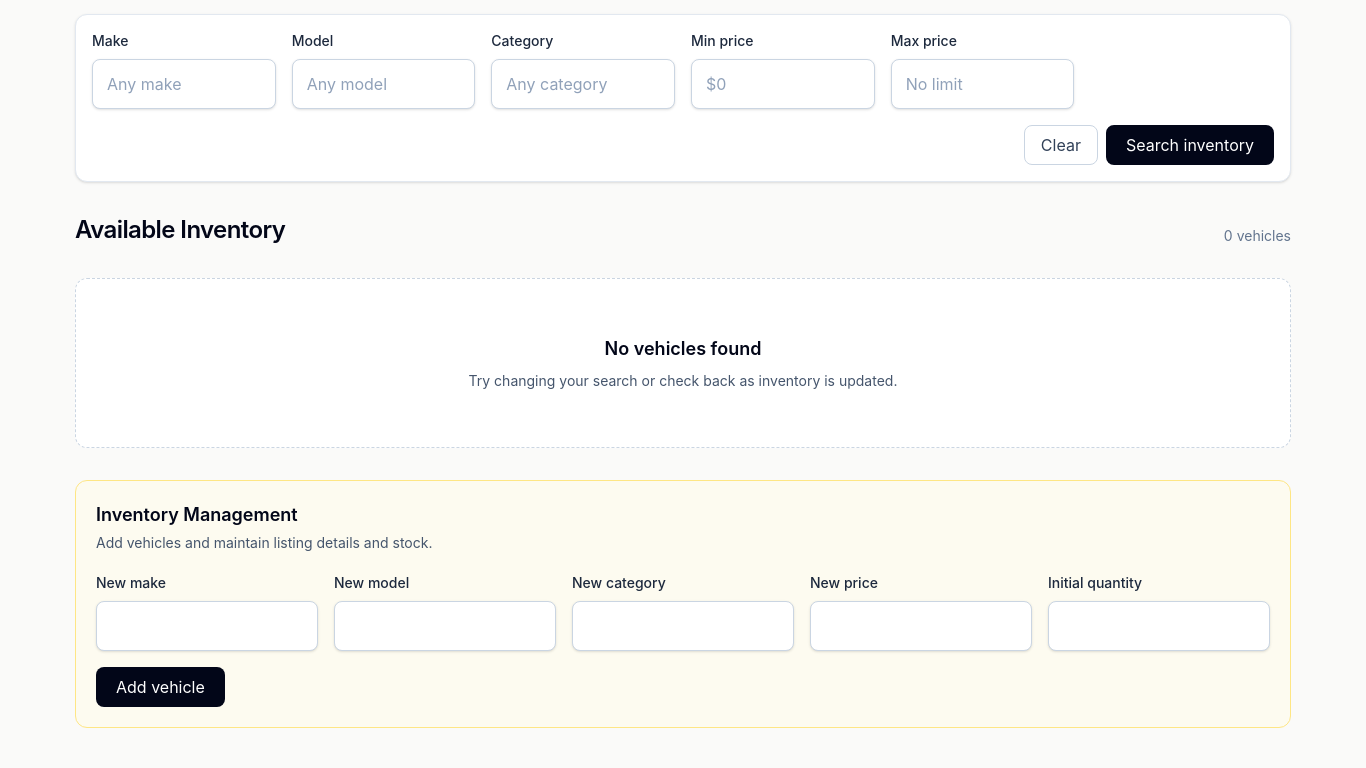
Scenario: dashboard › shows an API error in a modal when adding a vehicle fails
(page scrolled)
Type "Honda" into the field labelled "New make". click: (207, 626)
box: [96,601,318,651]
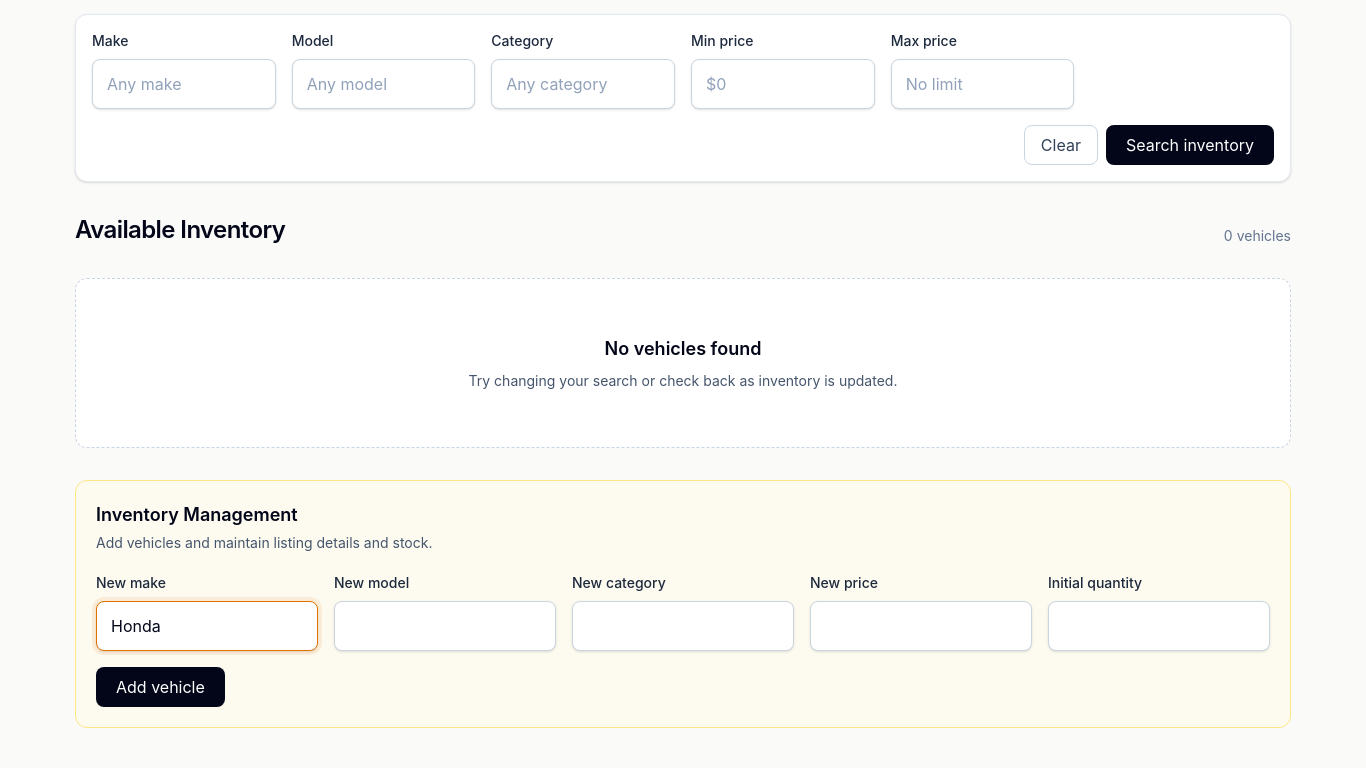
Type "Civic" into the field labelled "New model". click: (445, 626)
box: [334,601,556,651]
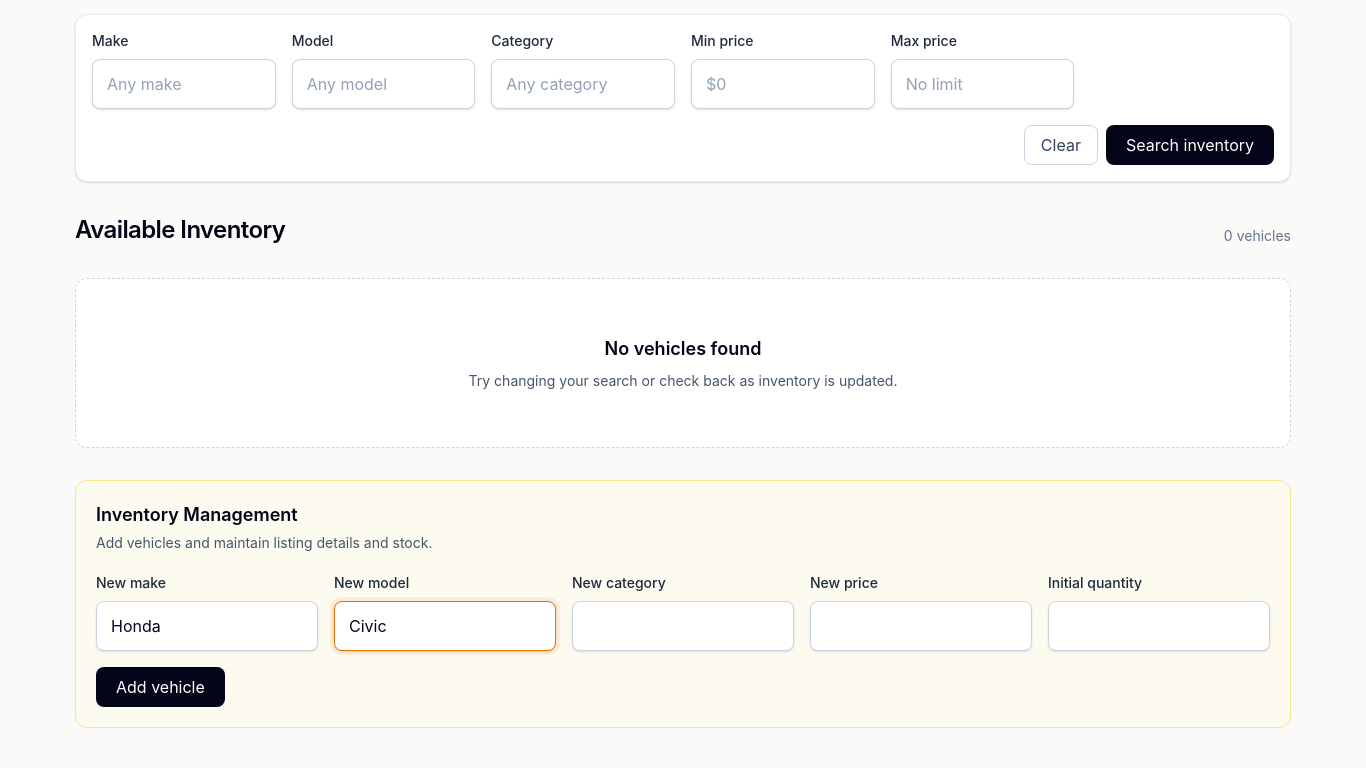
Type "Sedan" into the field labelled "New category". click: (683, 626)
box: [572,601,794,651]
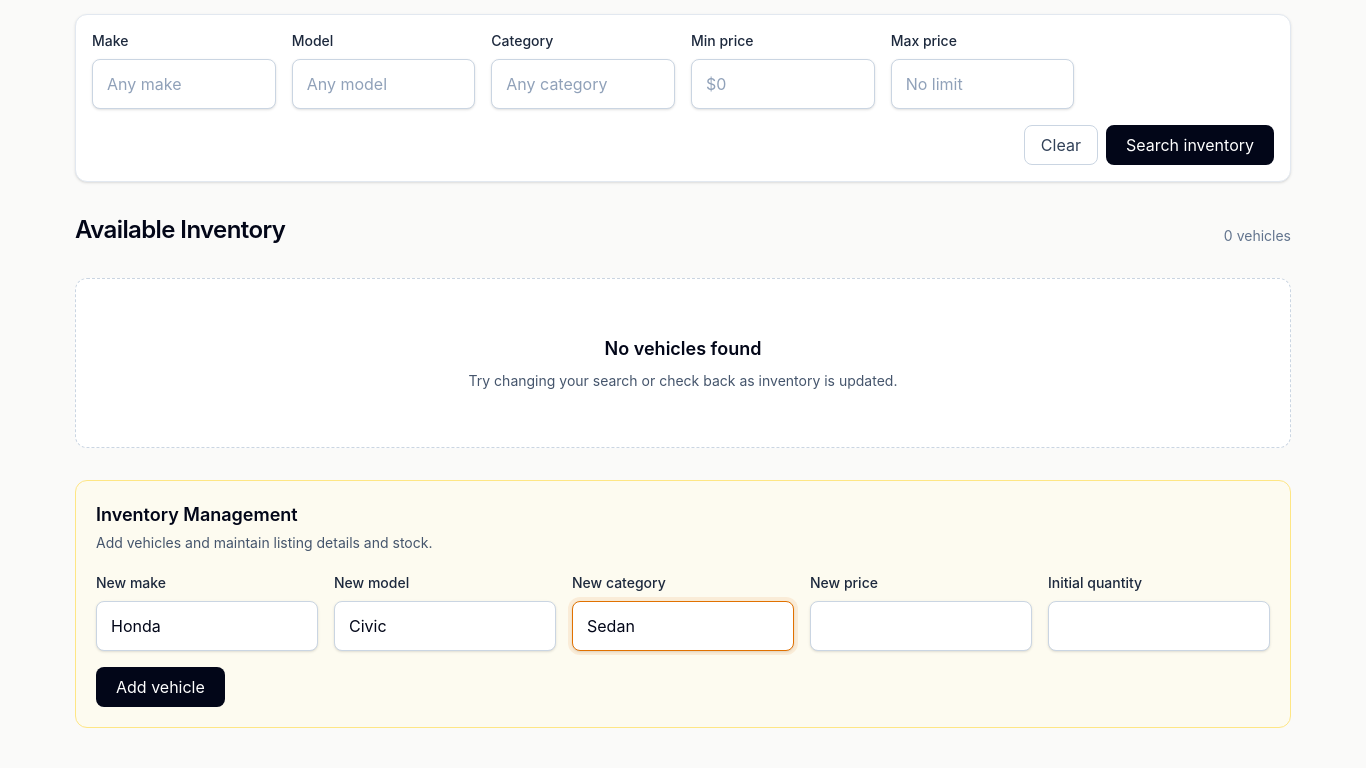
Type "20000" into the number field labelled "New price". click: (921, 626)
box: [810,601,1032,651]
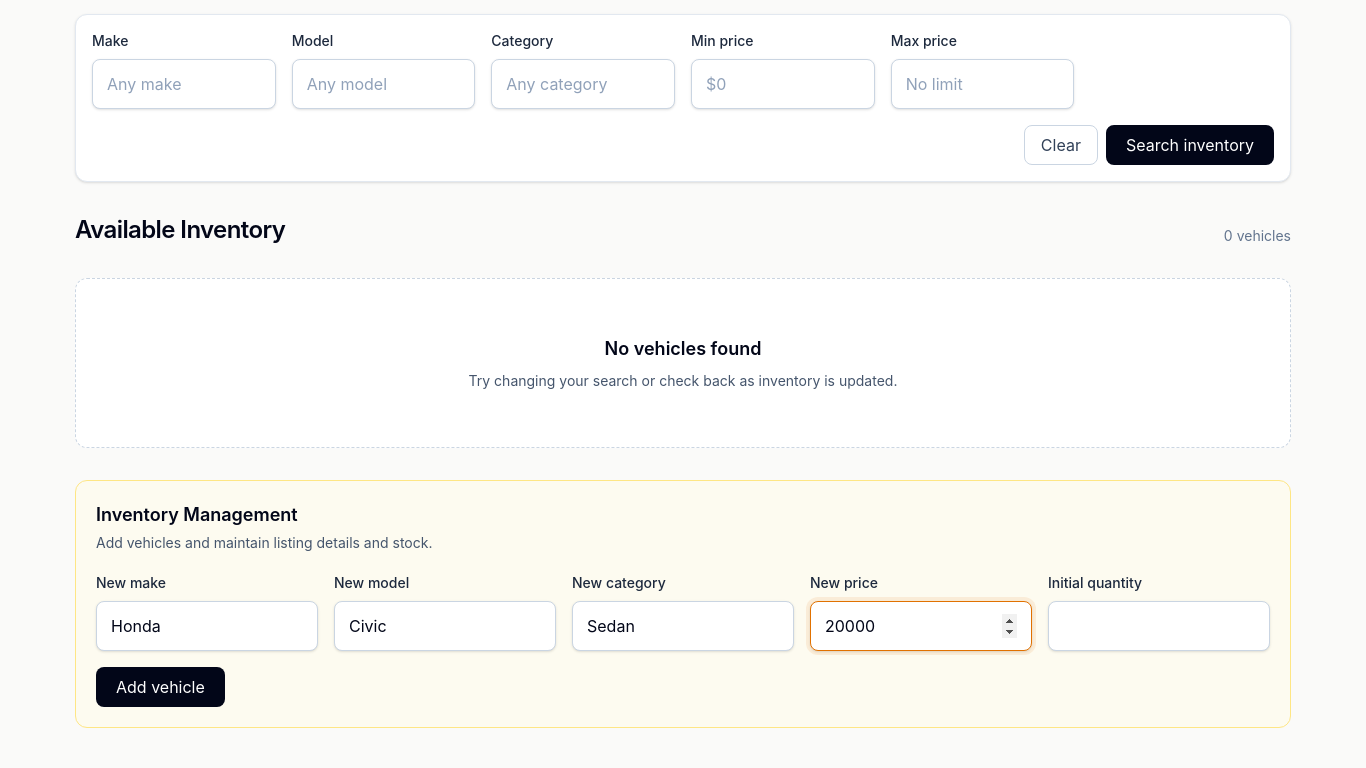
Type "2" into the number field labelled "Initial quantity". click: (1159, 626)
box: [1048,601,1270,651]
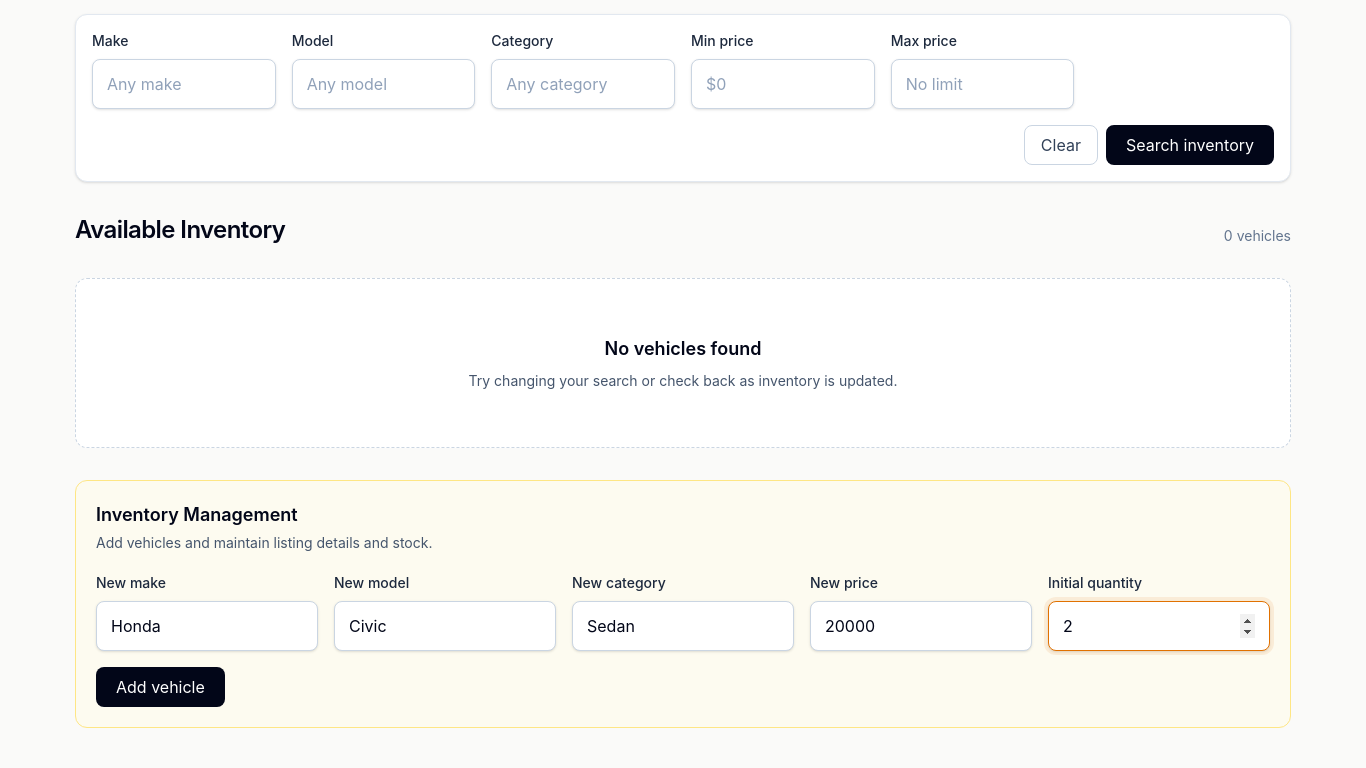
Click the button "Add vehicle". click: (160, 687)
box: [96,667,225,707]
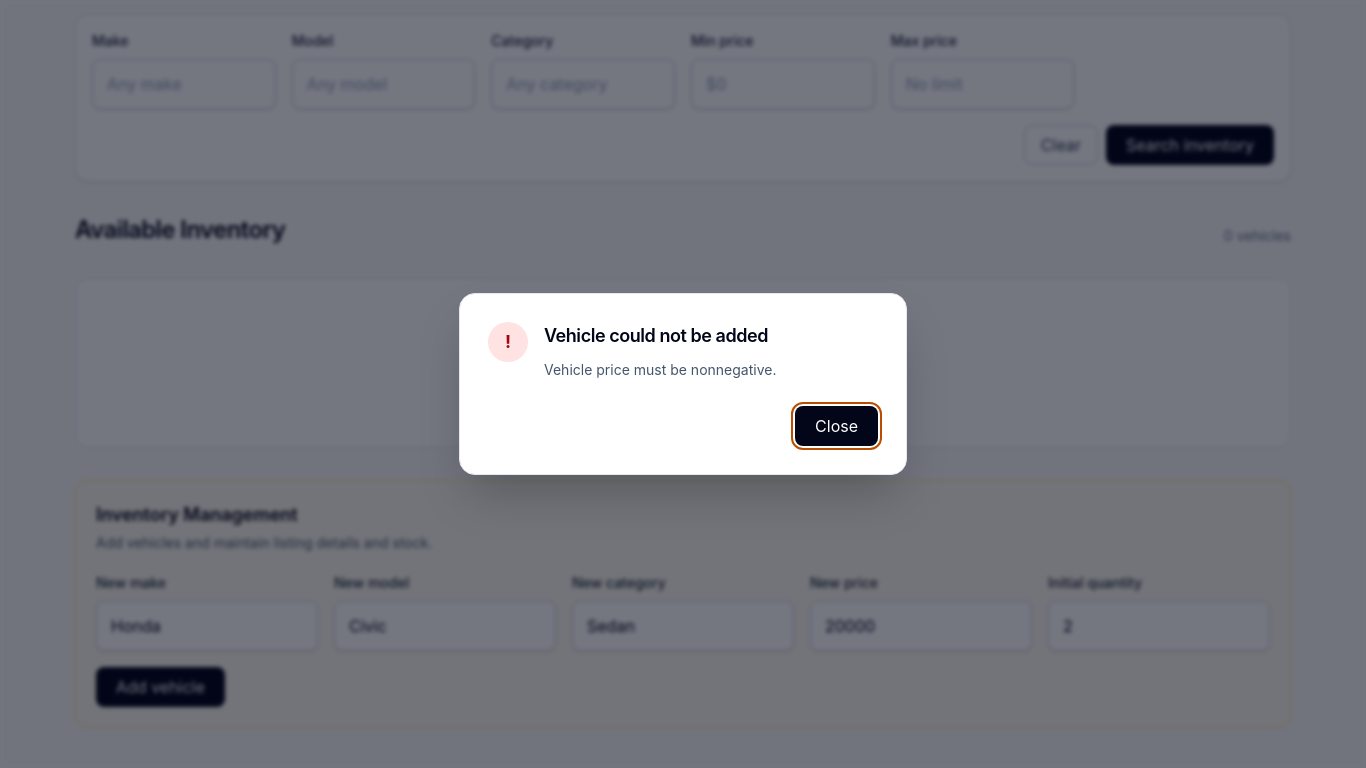
Expected: the dialog "Vehicle could not be added" shows "Vehicle price must be nonnegative.", [544,361,776,378]
